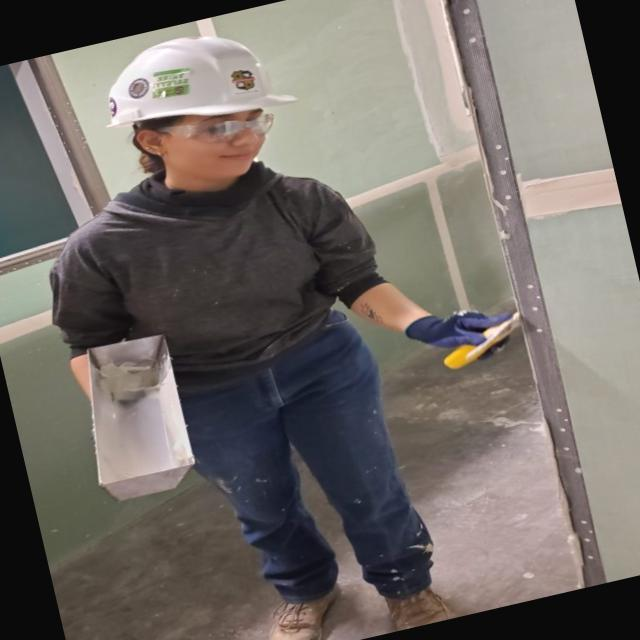goggles: (157, 105, 286, 158)
helmet: (79, 18, 292, 143)
no-vest: (23, 127, 396, 410)
